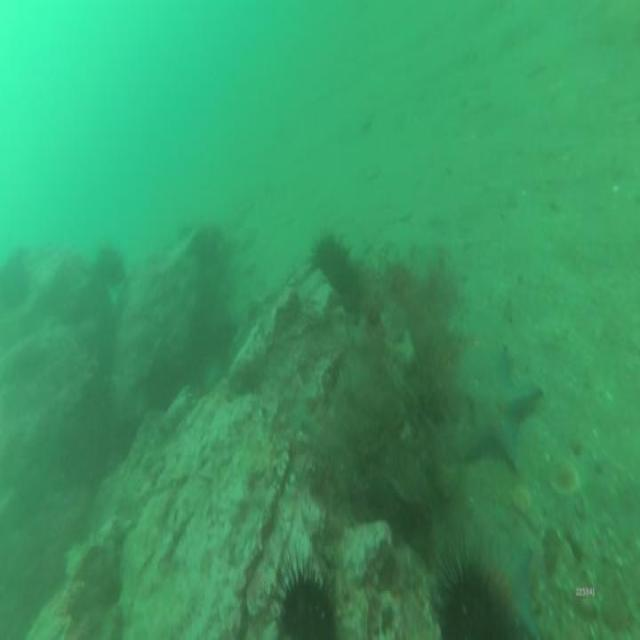echinus: (441, 556, 499, 637), (275, 569, 335, 640), (314, 232, 354, 294)
starfish: (464, 358, 540, 464), (488, 537, 539, 632)
